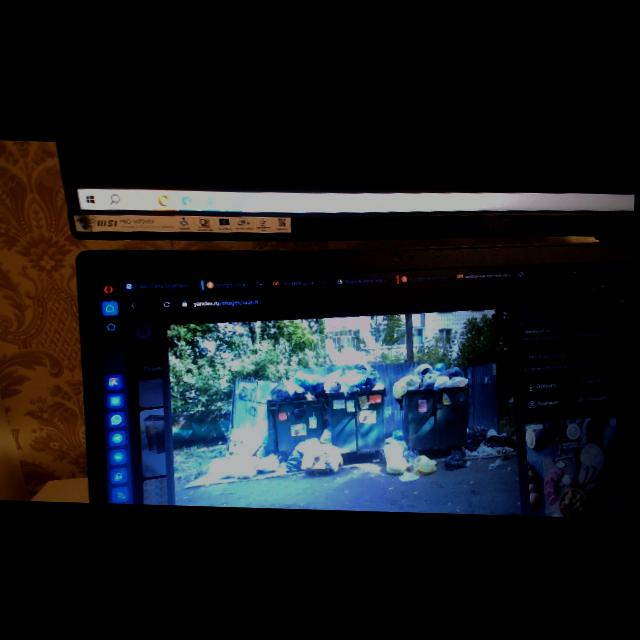Trash_Can_Full: (404, 359, 473, 448), (328, 364, 391, 452), (271, 374, 329, 454)
